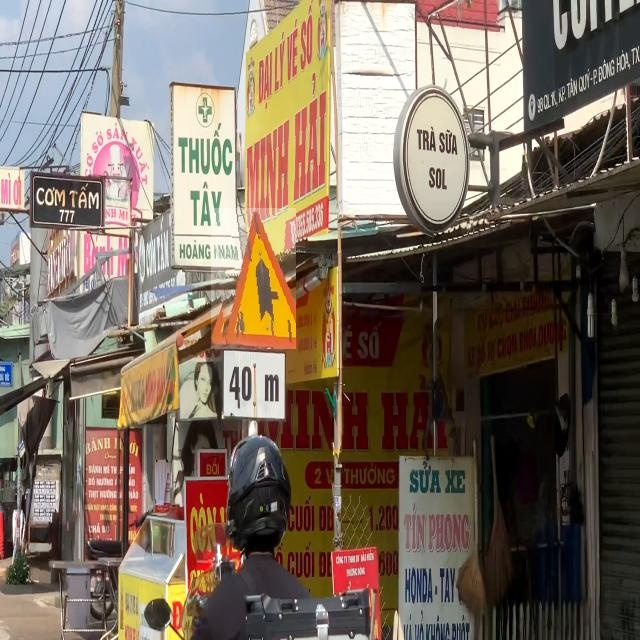bien_nguy_hiem: (211, 208, 296, 349)
